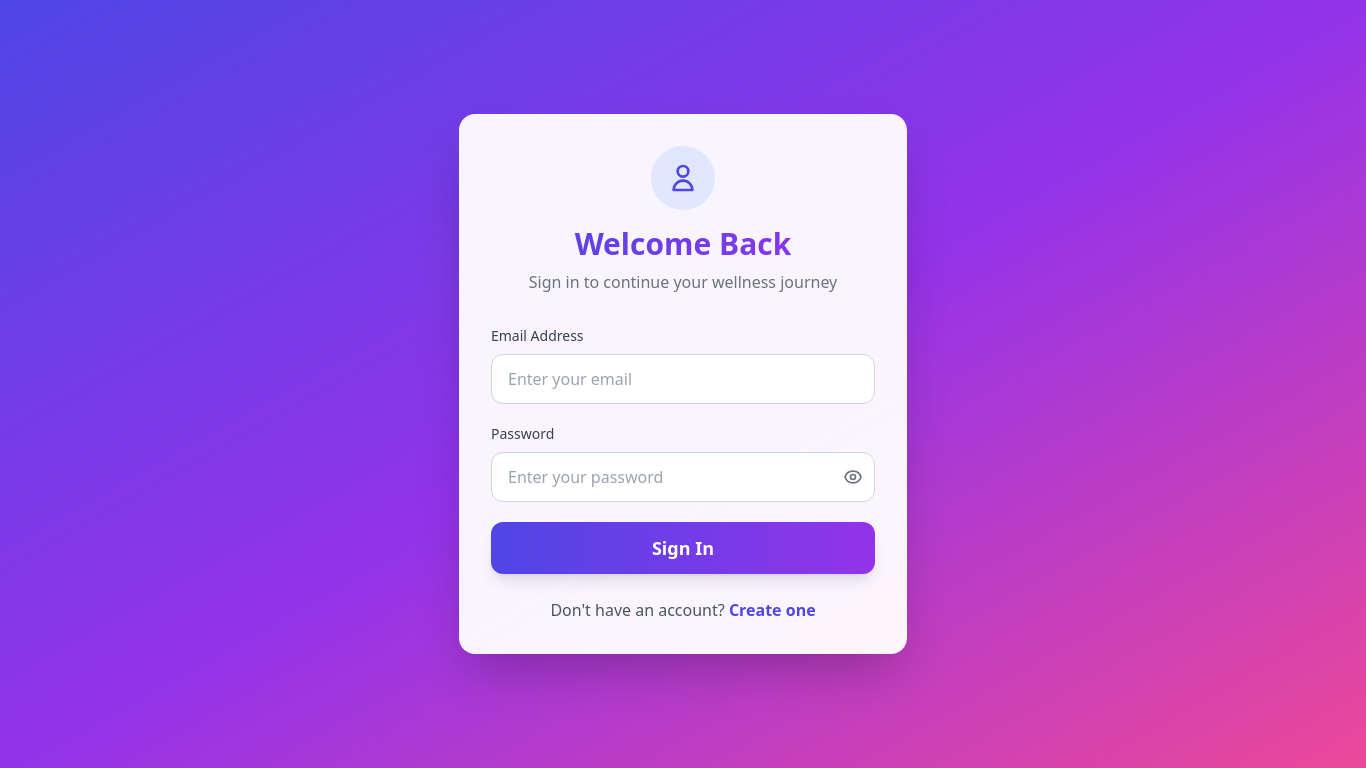
Test: Login Component › shows error for empty fields
The width and height of the screenshot is (1366, 768).
Click the button "Sign In".
click(683, 548)  # box [491, 522, 875, 574]
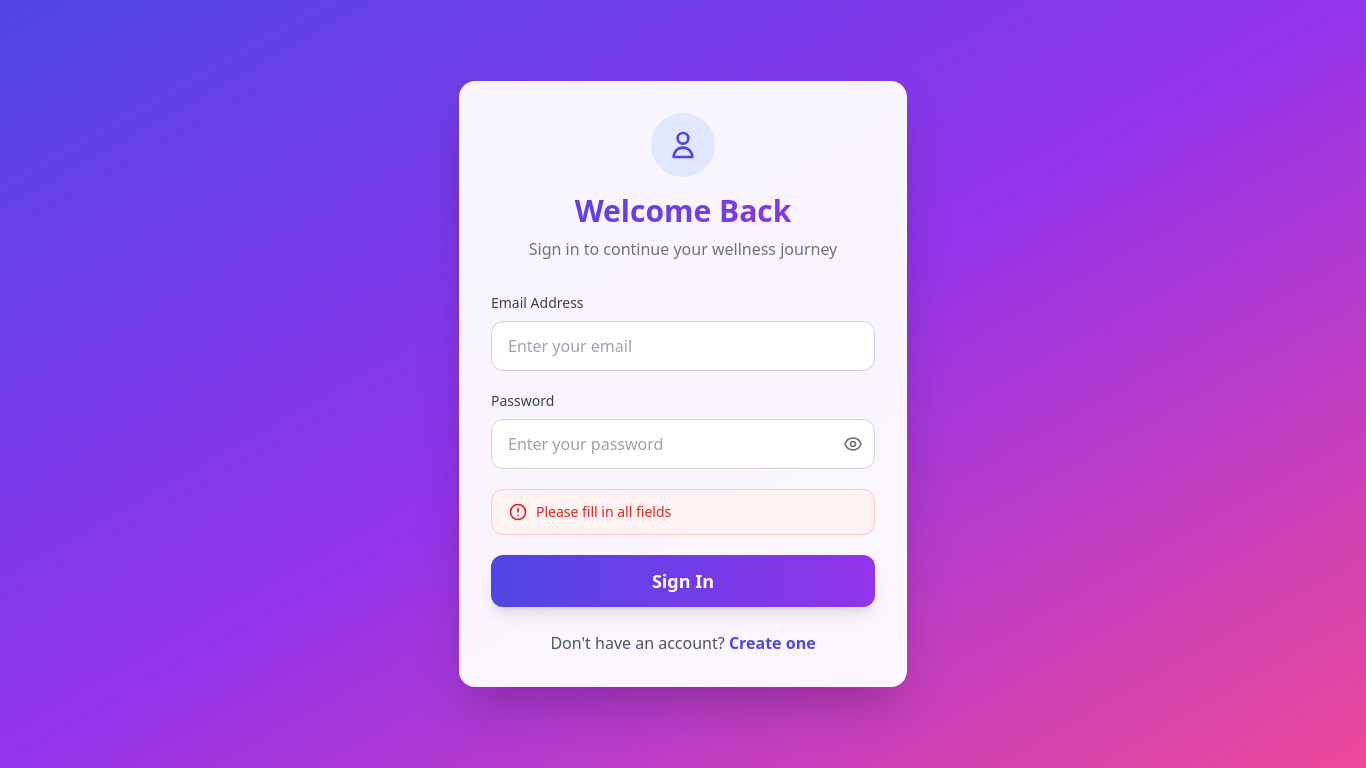
Result: the text "Please fill in all fields" is shown at [491, 489, 875, 535]
